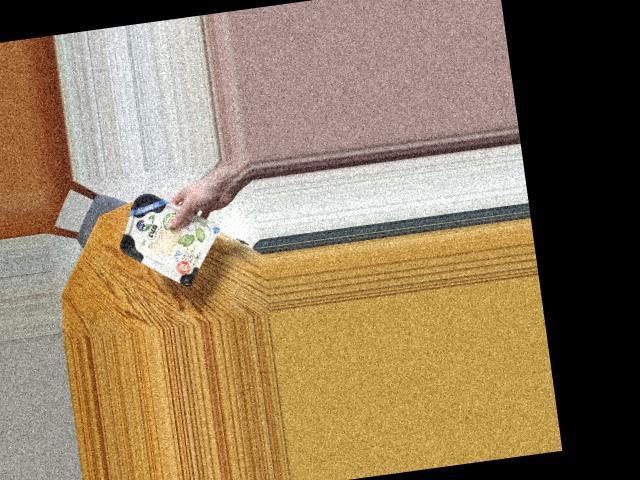cheese: (116, 180, 210, 288)
